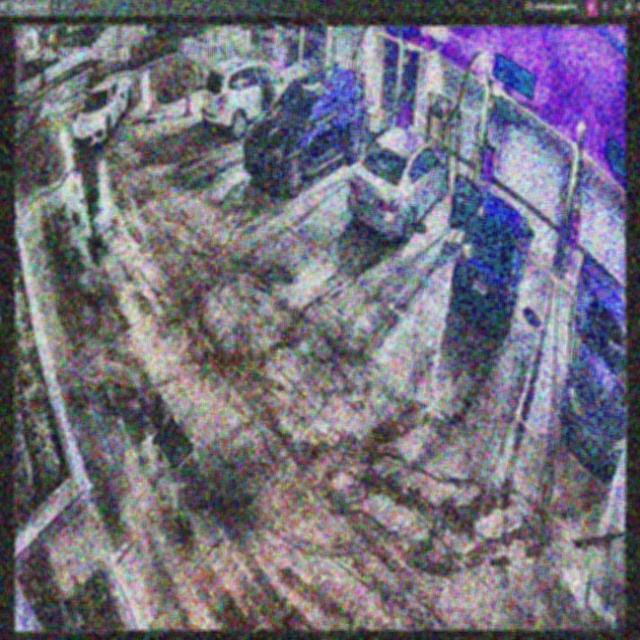Car: (243, 66, 368, 192), (448, 174, 535, 337), (347, 124, 447, 243), (72, 72, 133, 149)
